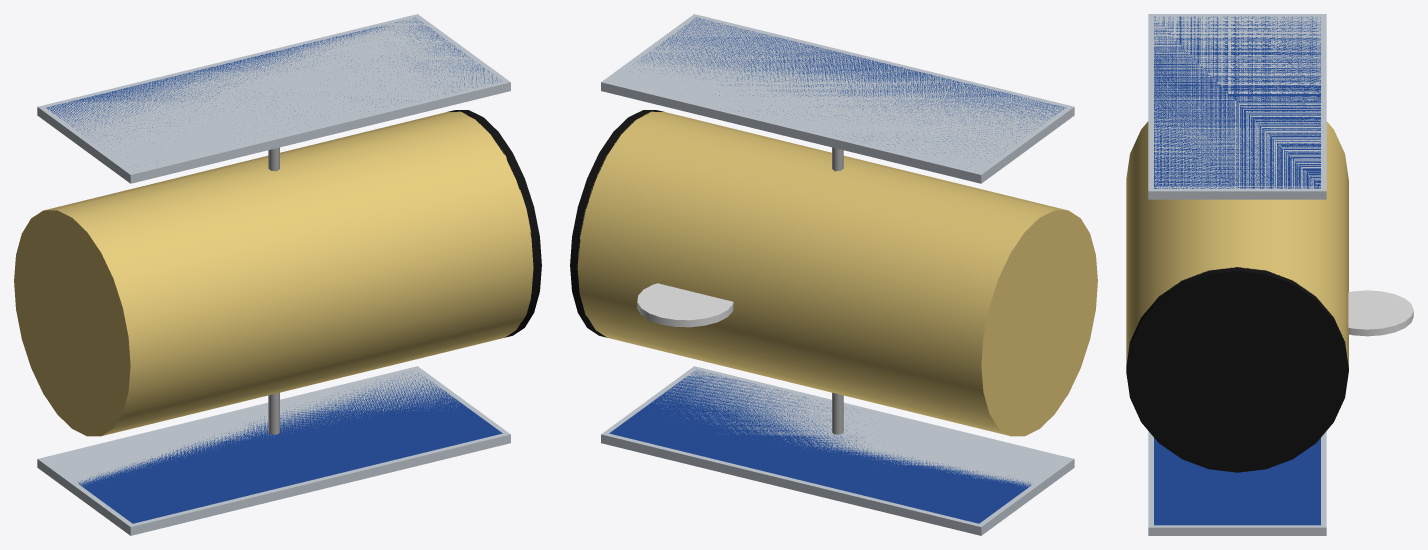
Rendered from hubble.glb.
The picture shows the model from 3 angles, left to right: view 1: azimuth 30°, elevation 25°; view 2: azimuth 150°, elevation 25°; view 3: azimuth 270°, elevation 25°; orthographic projection. The views are drawn at different scales.
Visible parts, largest first — view 1: hubble, panel (×2); view 2: hubble, panel (×2); view 3: hubble, panel (×2).
Boxes of the visible parts, bbox=[...] form: hubble: bbox=[14, 110, 541, 436]; panel (×2): bbox=[37, 14, 510, 535]; hubble: bbox=[570, 110, 1097, 436]; panel (×2): bbox=[601, 14, 1074, 535]; hubble: bbox=[1126, 121, 1413, 472]; panel (×2): bbox=[1148, 14, 1326, 535].
Size of the model in its own units: 2.45 by 2.05 by 1.55.
